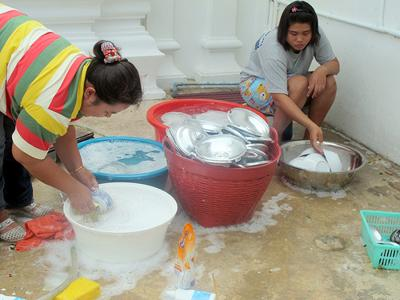person: (1, 2, 144, 245)
